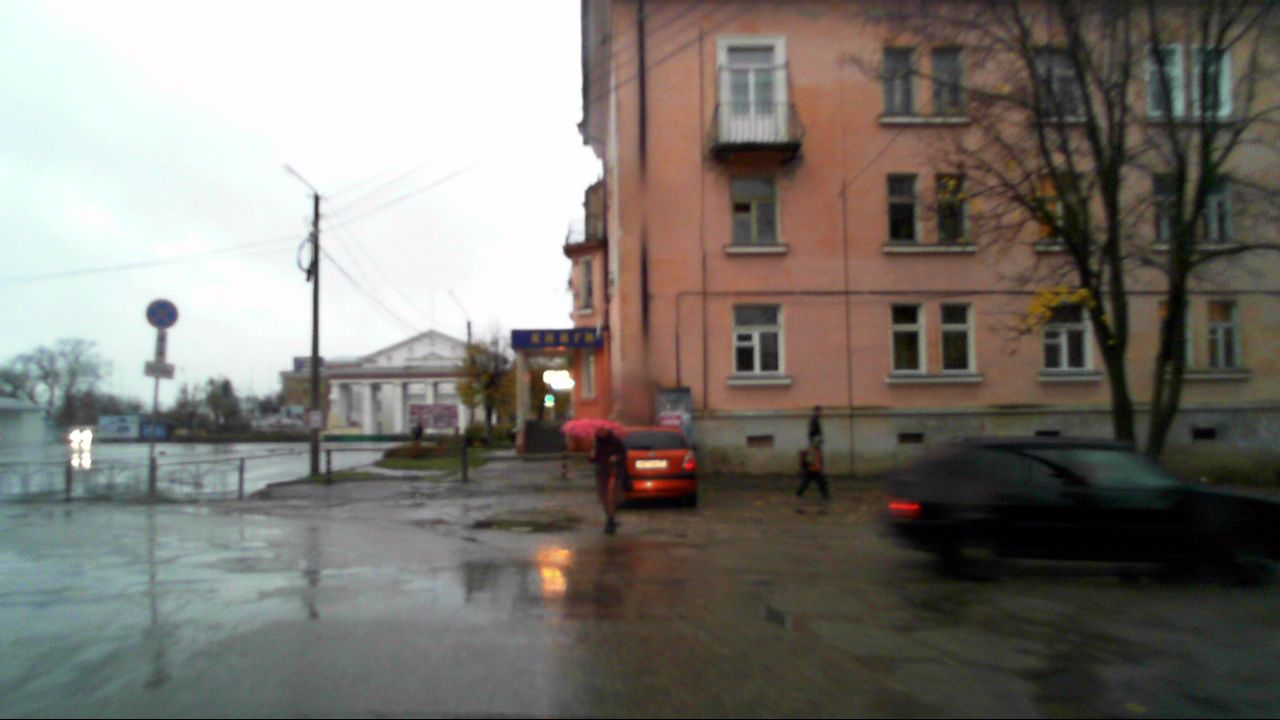No Parking: (147, 299, 177, 330)
